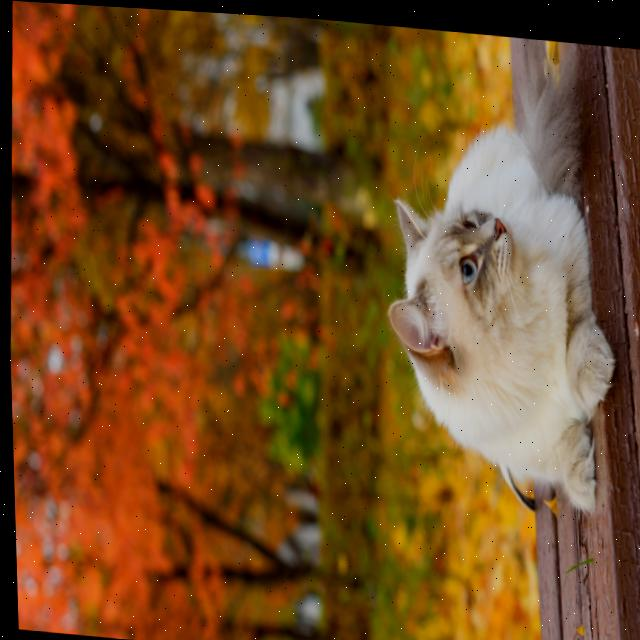Neva Masquerade: (367, 40, 630, 520)
